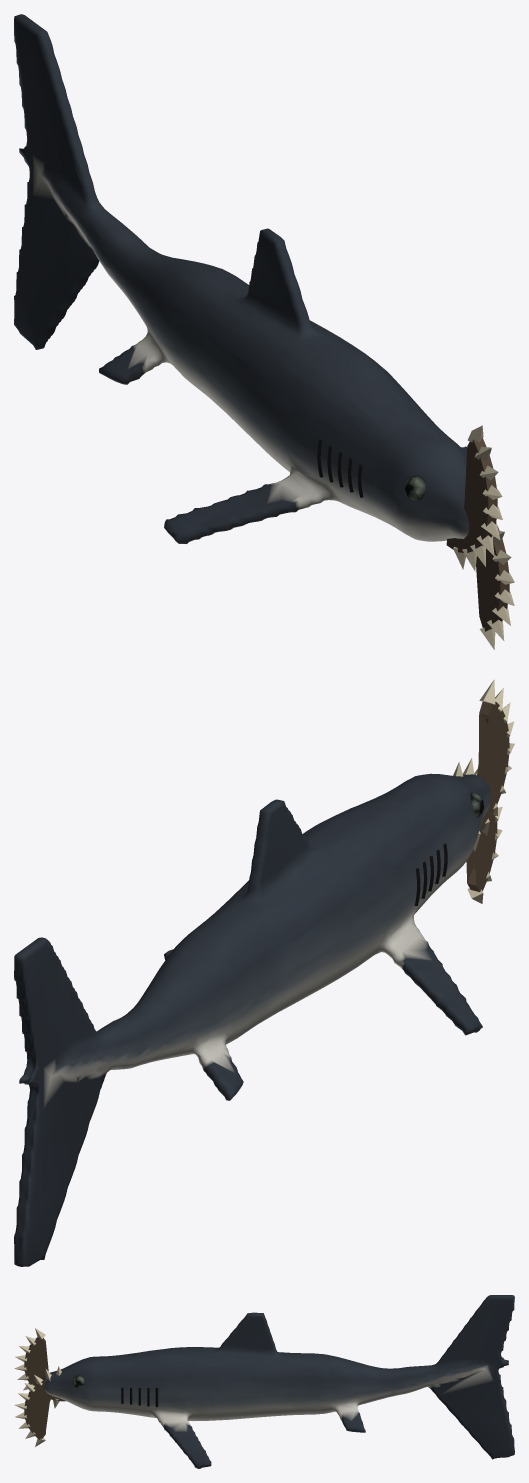
Rendered from Edestus.fbx.
3 views of the same model, one above another, from view 1: azimuth 30°, elevation 25°; view 2: azimuth 150°, elevation 25°; view 3: azimuth 270°, elevation 25° (orthographic). The views are drawn at different scales.
Visible parts, largest first — view 1: Edestus; view 2: Edestus; view 3: Edestus.
Part boxes in pixels (bbox=[...]): Edestus: bbox=[14, 14, 514, 649]; Edestus: bbox=[14, 679, 514, 1266]; Edestus: bbox=[14, 1295, 514, 1468].
Size of the model in its own units: 0.4624 by 0.4576 by 1.27.
